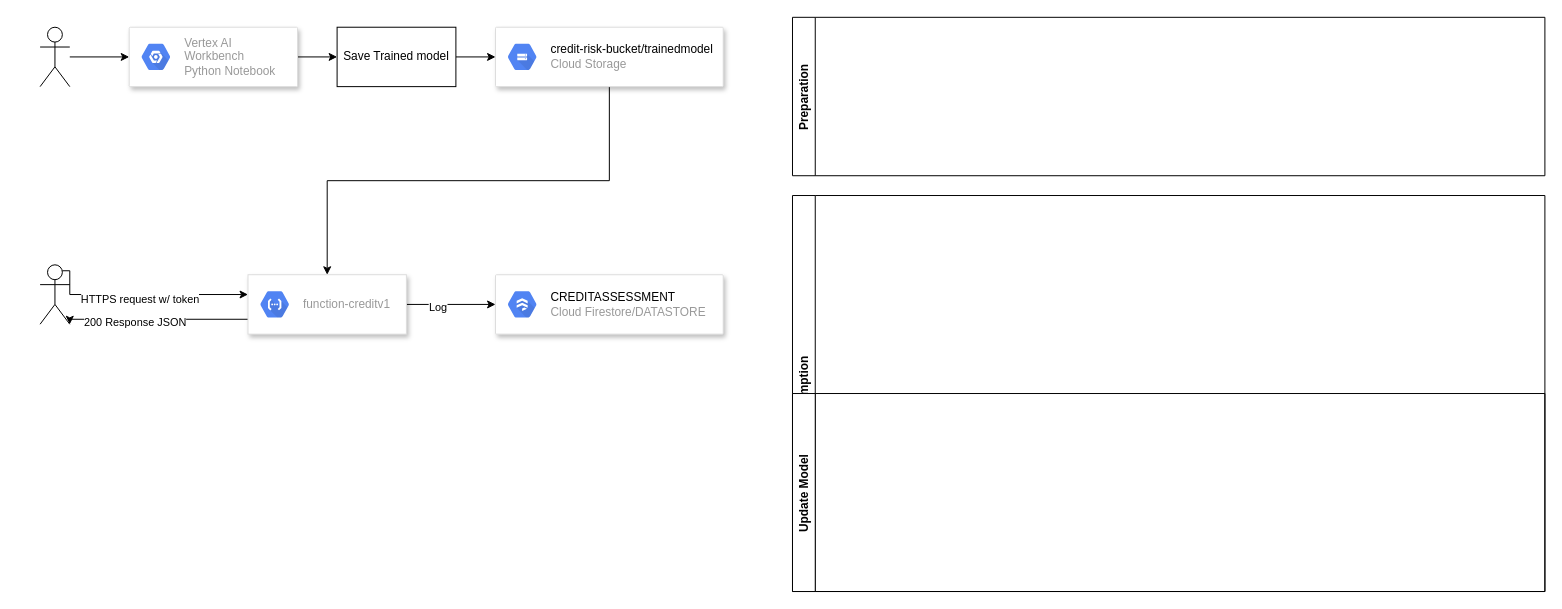
This 1562x609 diagram has some shape labels left out. The shapes that lost their labels are listed below. From the top down, each one's centre as x and y in pixels, then its label:
At [54,56]: "Data Scientist".
At [54,294]: "svc_credituser".
